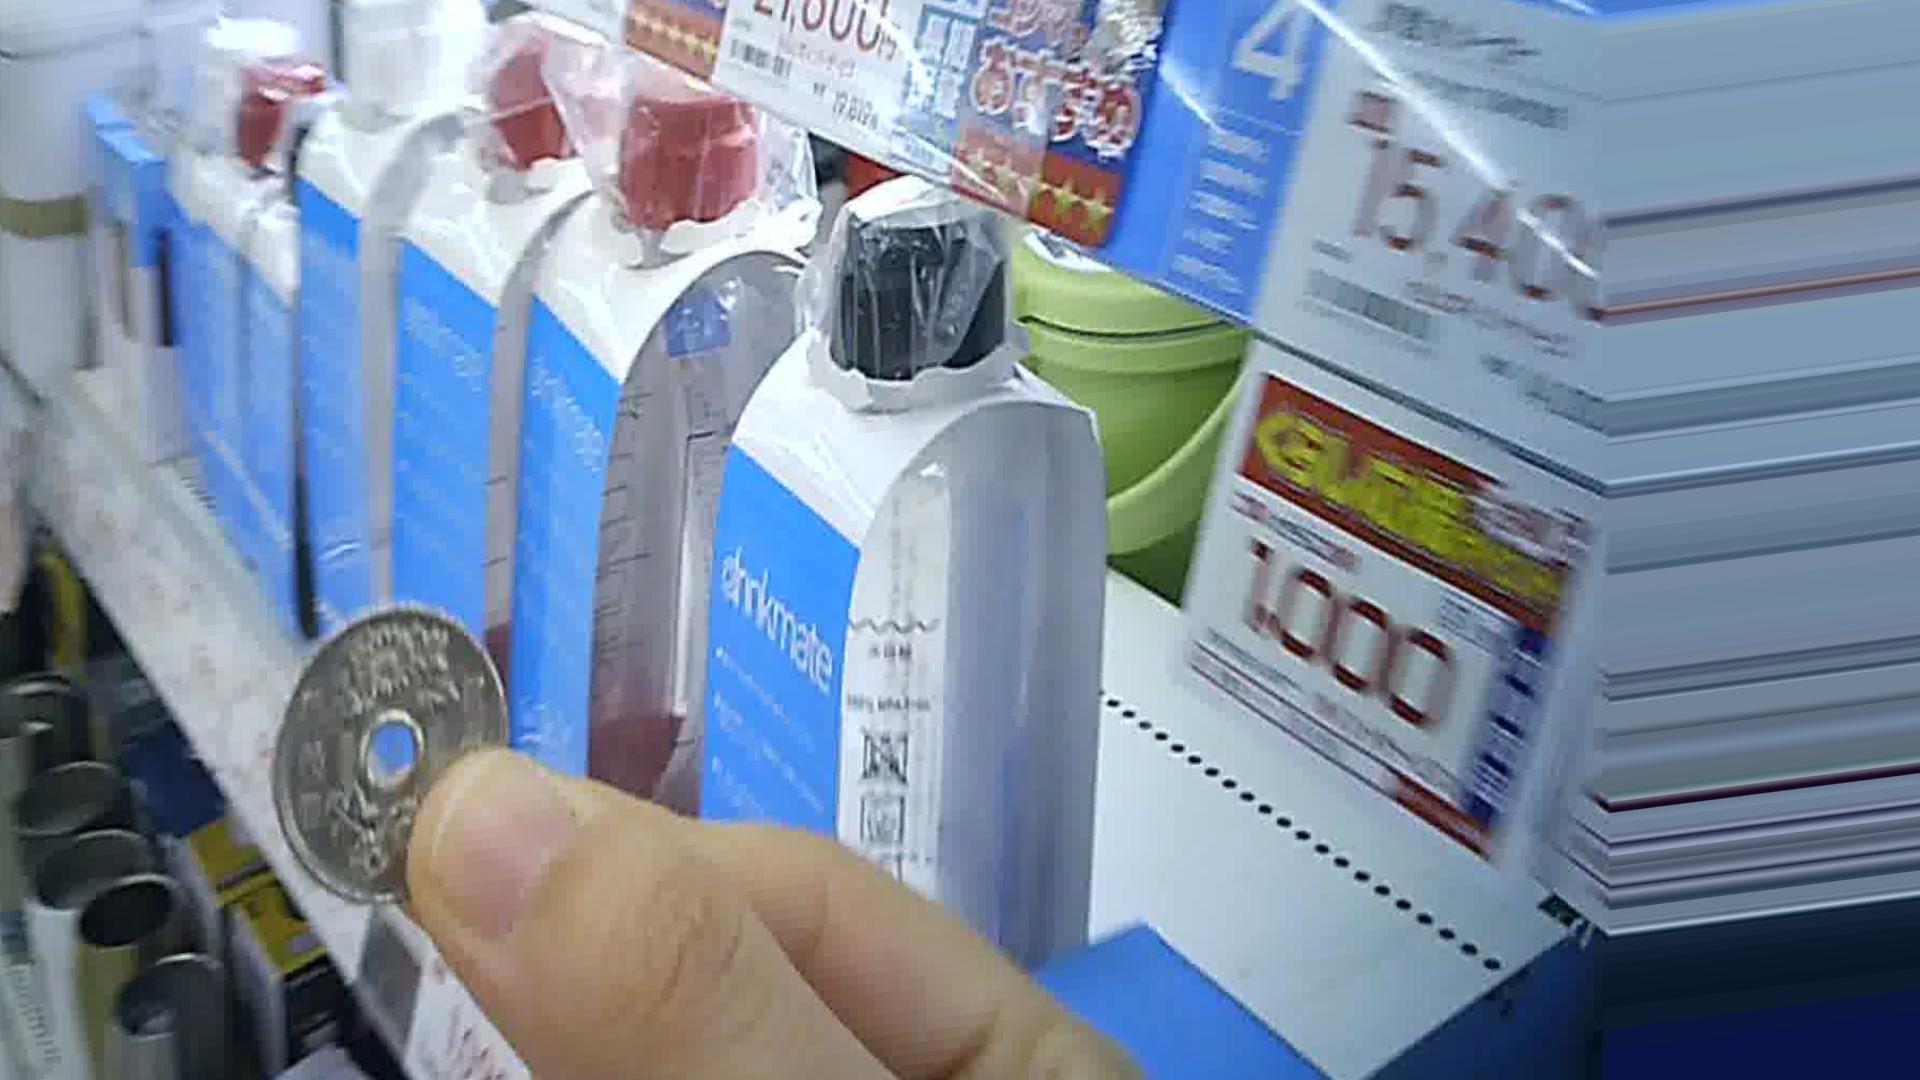50 Yen: (247, 592, 524, 905)
